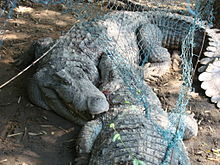Crocodile: (22, 13, 208, 125), (73, 51, 200, 165)
